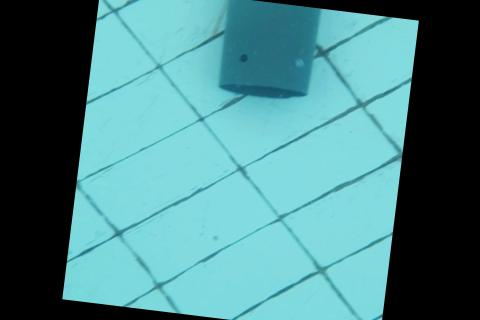kebocoran: (238, 51, 249, 62)
